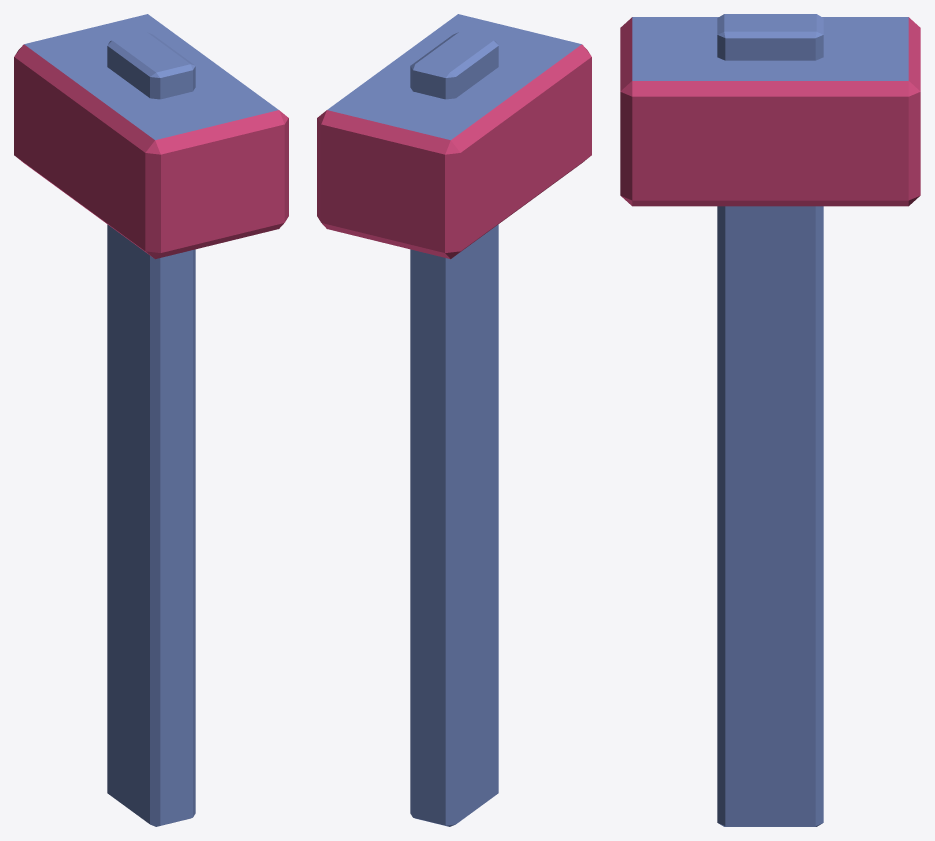
The picture shows the model from 3 angles, left to right: view 1: azimuth 30°, elevation 25°; view 2: azimuth 150°, elevation 25°; view 3: azimuth 270°, elevation 25°; orthographic projection. The views are drawn at different scales.
Parts seen in each view (by area): view 1: world; view 2: world; view 3: world.
Part boxes in pixels (x1,y1,x2,y2): world: [14, 14, 288, 826]; world: [317, 14, 591, 826]; world: [620, 14, 920, 826].
Bounding box in the file's own units: 0.0791 × 0.3976 × 0.1362.
